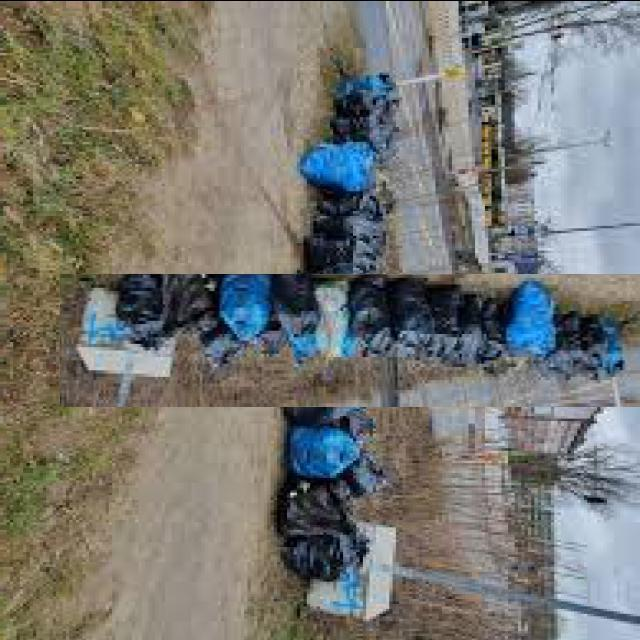Trashbag: (347, 266, 499, 381), (275, 476, 384, 606), (282, 178, 411, 270), (115, 258, 220, 356), (312, 86, 418, 158), (254, 270, 331, 354), (555, 320, 611, 385)
